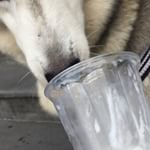puppy: (1, 1, 100, 88)
